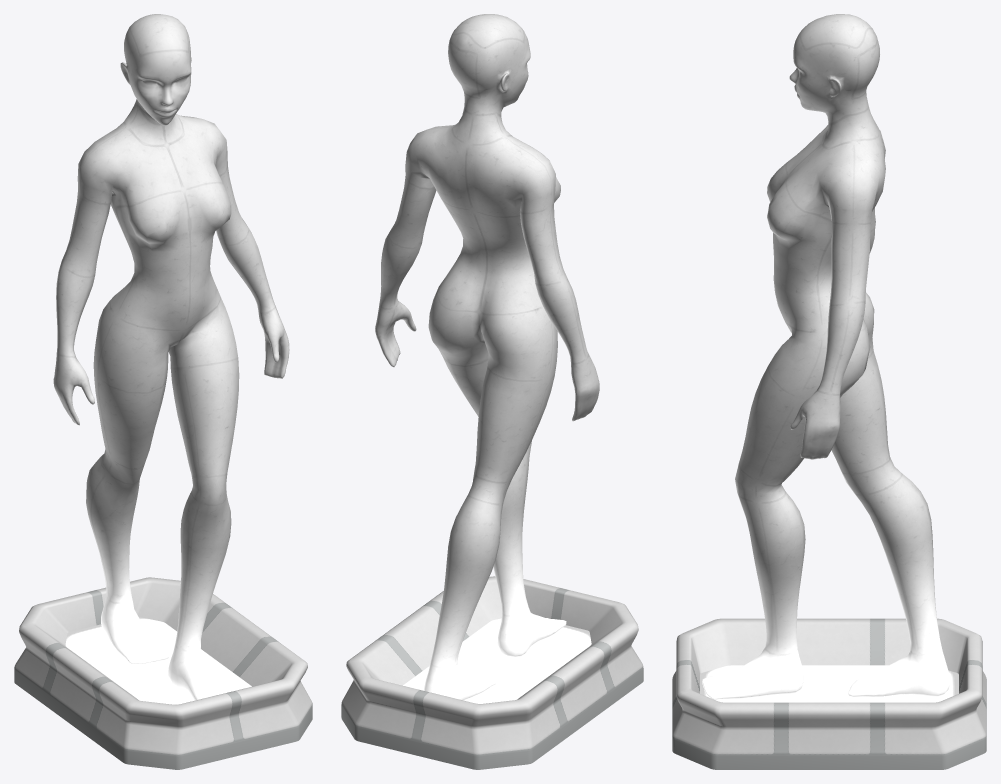
File: Statue01.FBX
3 views of the same model, side by side, from view 1: azimuth 30°, elevation 25°; view 2: azimuth 150°, elevation 25°; view 3: azimuth 270°, elevation 25° (orthographic). The views are drawn at different scales.
Visible parts, largest first — view 1: Statue01; view 2: Statue01; view 3: Statue01.
Boxes of the visible parts, x1,y1,x2,y2 form: Statue01: (14,14,312,769); Statue01: (341,14,643,769); Statue01: (672,14,986,769).
Size of what is drawn, in the model's own units: 0.6397 by 1.88 by 0.7606.
